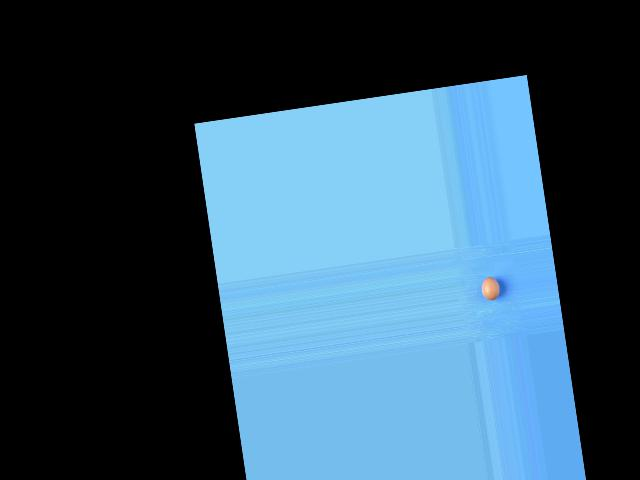egg: (480, 276, 502, 301)
